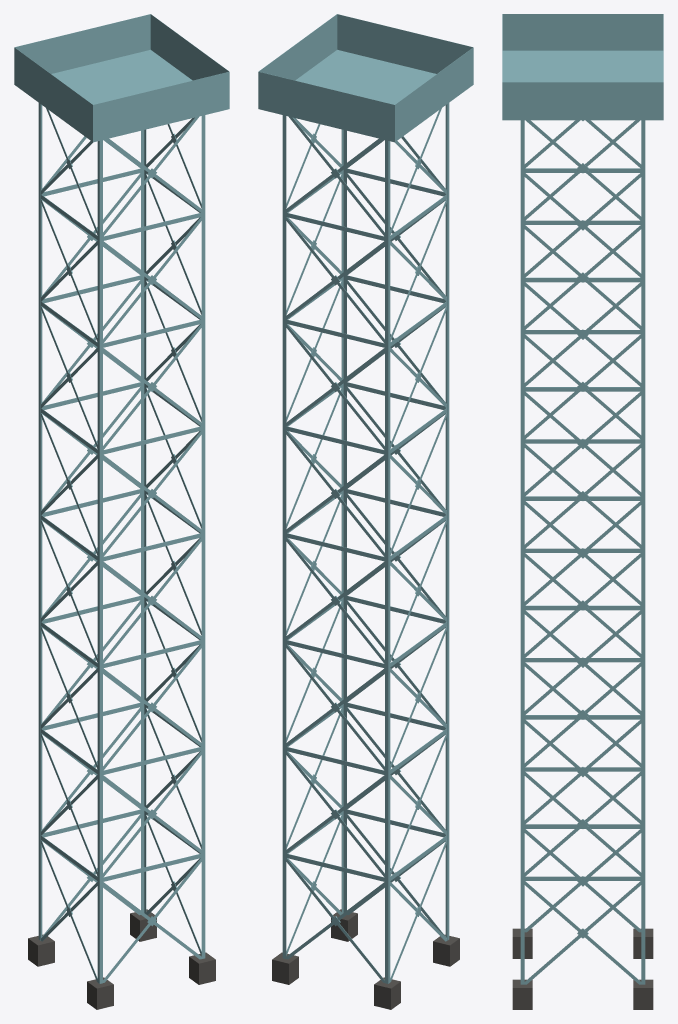
File: tower.dae
3 renders of one model, left to right at view 1: azimuth 30°, elevation 25°; view 2: azimuth 150°, elevation 25°; view 3: azimuth 270°, elevation 25°, orthographic. The views are drawn at different scales.
Visible parts, largest first — view 1: tower; view 2: tower; view 3: tower.
Boxes of the visible parts, left/top/right/bottom form: tower: left=14, top=14, right=229, bottom=1009; tower: left=258, top=14, right=473, bottom=1009; tower: left=502, top=14, right=663, bottom=1009.
Size of the model in its own units: 4.01 by 4.01 by 25.58.
